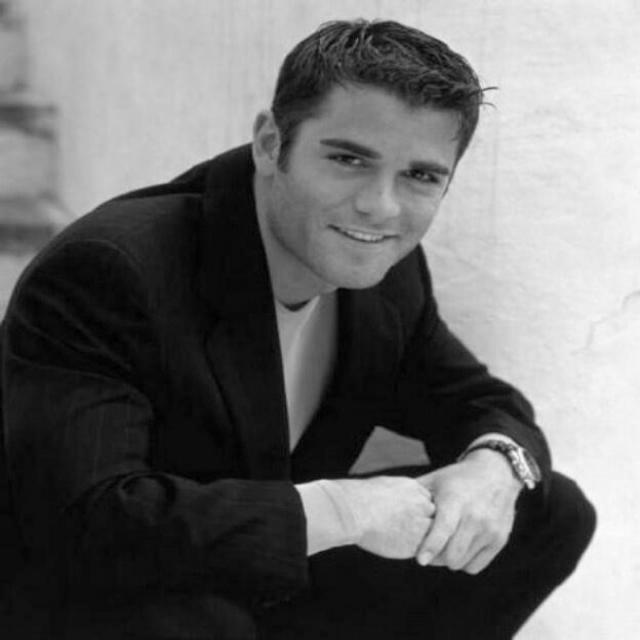real: (264, 39, 474, 297)
